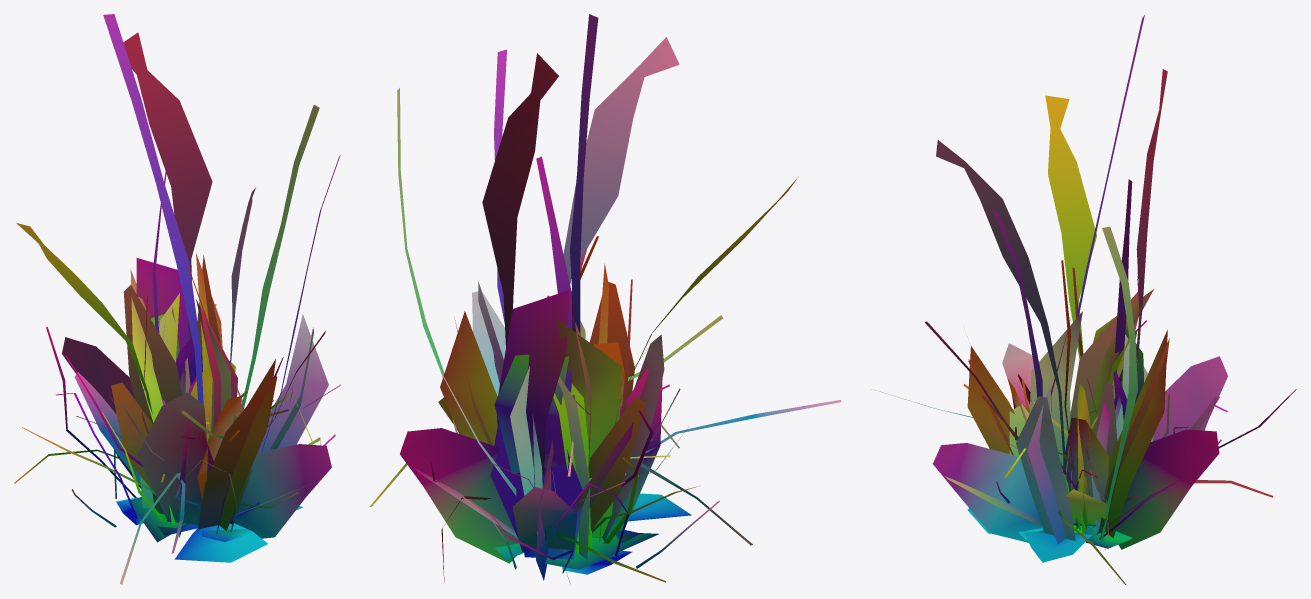
File: uddmcgbia_VarA_LOD0.fbx
3 views of the same model, side by side, from view 1: azimuth 30°, elevation 25°; view 2: azimuth 150°, elevation 25°; view 3: azimuth 270°, elevation 25° (orthographic). The views are drawn at different scales.
Parts seen in each view (by area): view 1: _2296_VarA_LOD1; view 2: _2296_VarA_LOD1; view 3: _2296_VarA_LOD1.
Part boxes in pixels (x1,y1,x2,y2): _2296_VarA_LOD1: (14,14,340,584); _2296_VarA_LOD1: (369,14,841,583); _2296_VarA_LOD1: (871,15,1296,584).
Bounding box in the file's own units: 42.29 × 61.44 × 47.8.
